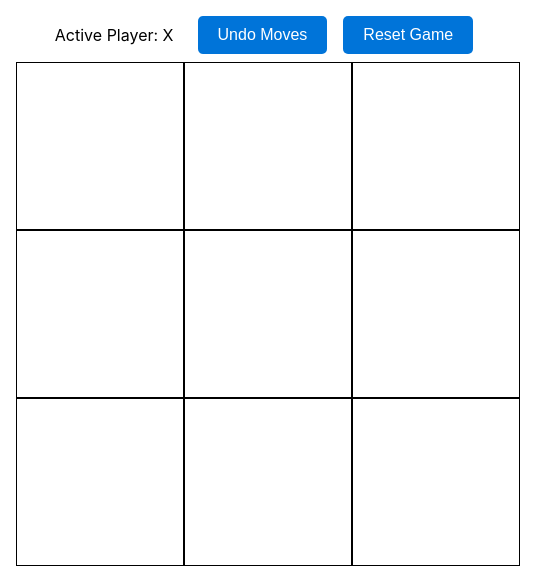
Test: Tic-Tac-Toe Game › allows players to undo moves
# Player X makes move
Click the 1st element with test id "square" at (100, 146), box left=16, top=62, right=184, bottom=230
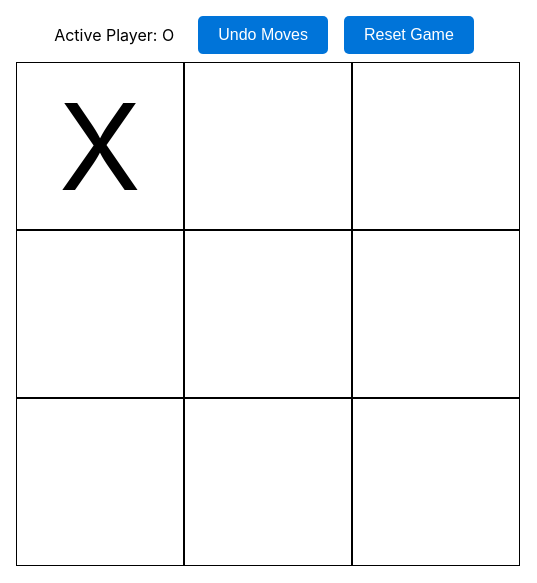
# Player O makes move
Click the 2nd element with test id "square" at (268, 146), box left=184, top=62, right=352, bottom=230
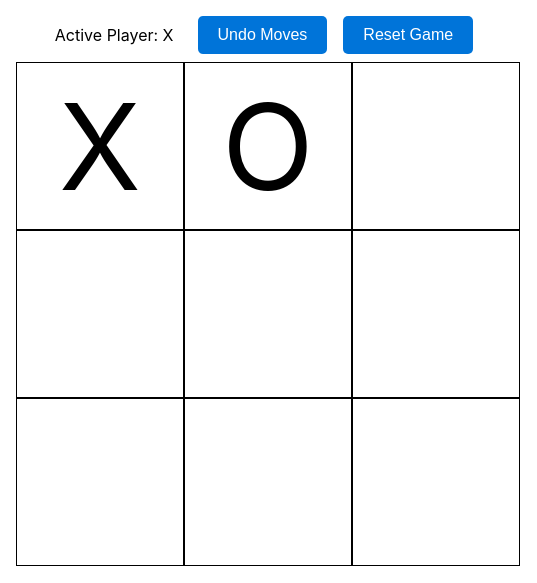
Click the button "Undo Moves" at (262, 35), box left=198, top=16, right=327, bottom=54
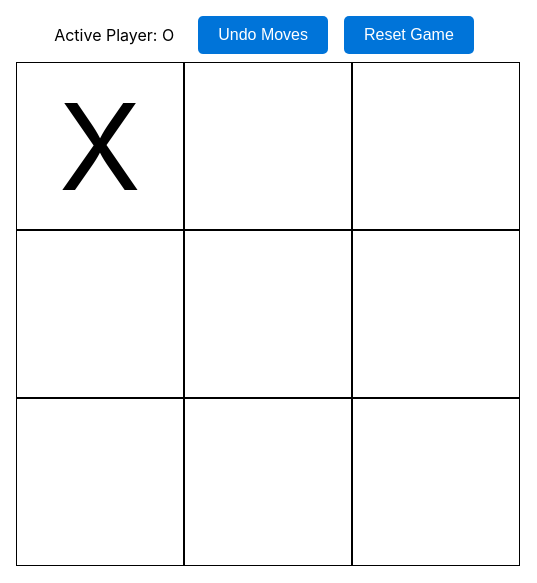
Expected: the text with test id "square" reads "X", left=59, top=74, right=141, bottom=218
Expected: the 1st element with test id "square" is empty, left=184, top=62, right=352, bottom=230
